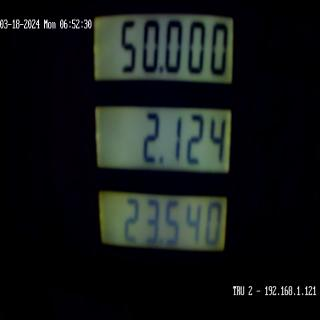screen: (91, 0, 241, 289)
